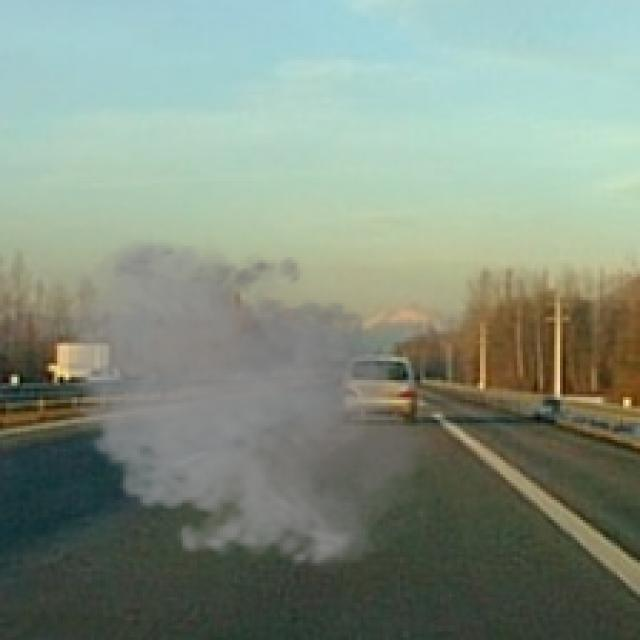Smoke: (46, 234, 448, 577)
